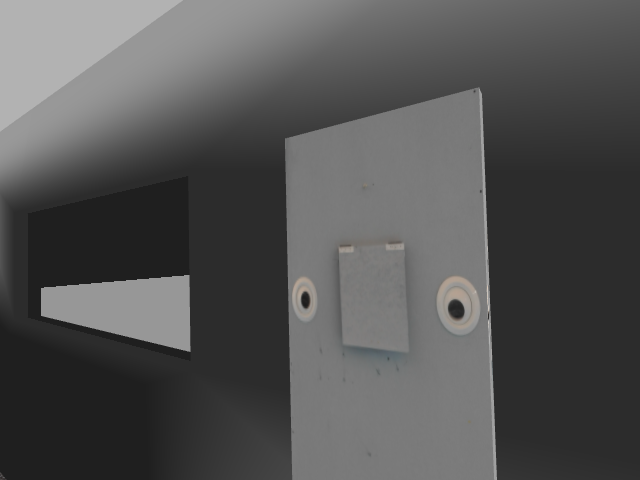facade: (288, 239, 483, 361)
